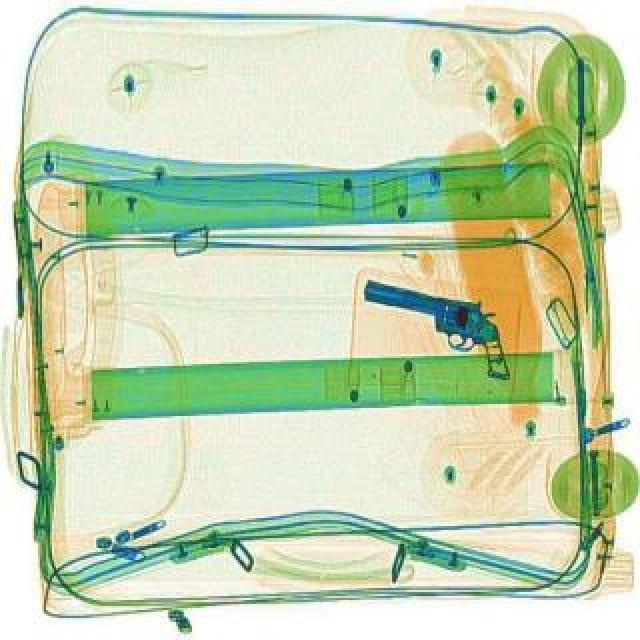gun: (346, 276, 528, 380)
